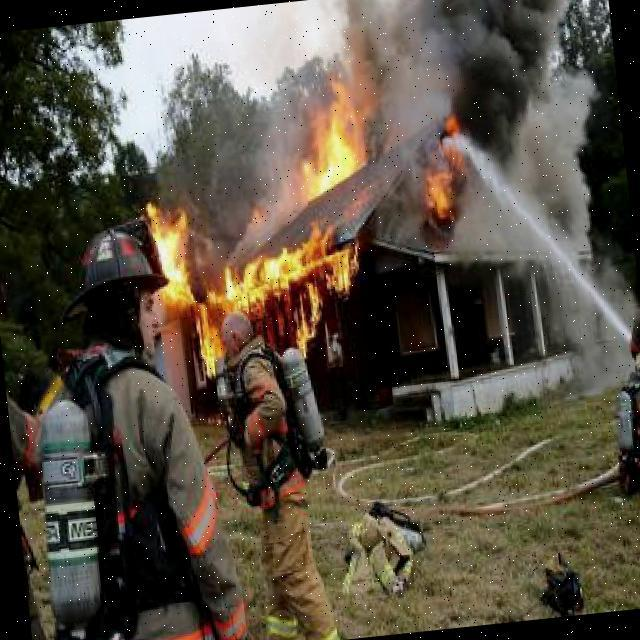Fire: (215, 218, 362, 308), (289, 73, 369, 213), (143, 195, 204, 312), (418, 151, 464, 237), (290, 298, 331, 367), (195, 315, 226, 383)
Smoke: (503, 117, 606, 277), (210, 120, 304, 228)
